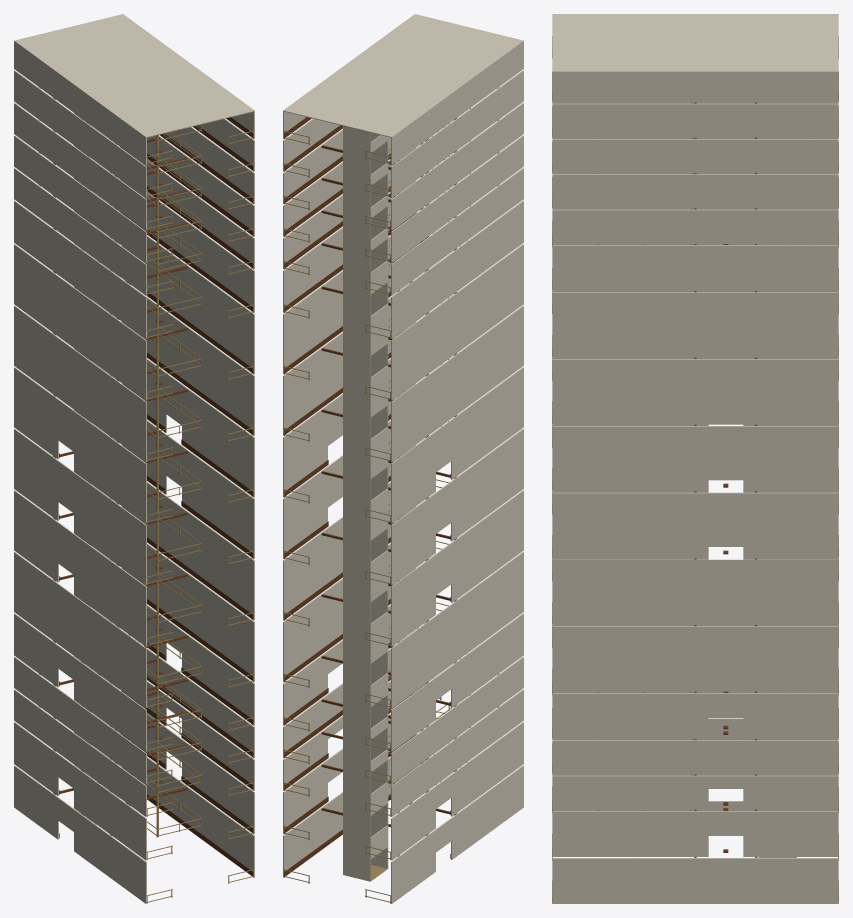
Rendered from AST-CIR-005_aft_towels_d08.glb.
3 renders of one model, left to right at view 1: azimuth 30°, elevation 25°; view 2: azimuth 150°, elevation 25°; view 3: azimuth 270°, elevation 25°, orthographic. The views are drawn at different scales.
Parts seen in each view (by area): view 1: CORE_BATCH_ivory_enamel, CORE_BATCH_champagne_metal, CORE_BATCH_warm_walnut, CORE_OuterWall_01_-1_Solar_Aft, CORE_OuterWall_04_-1_hydration_Aft, CORE_OuterWall_04_1_family_waiting_Aft, CORE_OuterWall_01_1_Inspection_Aft, CORE_OuterWall_02_1_Uniforms_Aft, CORE_OuterWall_04_-1_hydration_Fore, CORE_OuterWall_01_-1_Solar_Fore, CORE_OuterWall_04_1_family_waiting_Fore, CORE_OuterWall_01_1_Inspection_Fore; view 2: CORE_BATCH_ivory_enamel, CORE_BATCH_warm_walnut, CORE_BATCH_champagne_metal, CORE_OuterWall_04_-1_hydration_Aft, CORE_OuterWall_01_-1_Solar_Aft, CORE_OuterWall_01_-1_Solar_Fore, CORE_OuterWall_04_-1_hydration_Fore, CORE_OuterWall_04_1_family_waiting_Fore, CORE_OuterWall_01_1_Inspection_Fore, CORE_OuterWall_02_1_Uniforms_Fore; view 3: CORE_BATCH_ivory_enamel, CORE_OuterWall_01_1_Inspection_Aft, CORE_OuterWall_04_1_family_waiting_Aft, CORE_OuterWall_02_1_Uniforms_Aft, CORE_OuterWall_01_1_Inspection_Fore, CORE_OuterWall_04_1_family_waiting_Fore, CORE_OuterWall_02_1_Uniforms_Fore, CORE_BATCH_champagne_metal, CORE_OuterWall_01_1_Inspection_Header, CORE_OuterWall_04_1_family_waiting_Header.
Part boxes in pixels (<box>): CORE_BATCH_ivory_enamel: <box>14,14,254,903</box>; CORE_BATCH_champagne_metal: <box>38,87,254,903</box>; CORE_BATCH_warm_walnut: <box>53,97,253,875</box>; CORE_OuterWall_01_-1_Solar_Aft: <box>74,766,146,860</box>; CORE_OuterWall_04_-1_hydration_Aft: <box>74,657,146,751</box>; CORE_OuterWall_04_1_family_waiting_Aft: <box>182,631,254,725</box>; CORE_OuterWall_01_1_Inspection_Aft: <box>182,739,254,833</box>; CORE_OuterWall_02_1_Uniforms_Aft: <box>182,707,254,790</box>; CORE_OuterWall_04_-1_hydration_Fore: <box>14,613,58,687</box>; CORE_OuterWall_01_-1_Solar_Fore: <box>14,722,58,795</box>; CORE_OuterWall_04_1_family_waiting_Fore: <box>147,605,166,660</box>; CORE_OuterWall_01_1_Inspection_Fore: <box>147,714,166,769</box>; CORE_BATCH_ivory_enamel: <box>283,14,523,903</box>; CORE_BATCH_warm_walnut: <box>284,117,456,875</box>; CORE_BATCH_champagne_metal: <box>283,87,499,903</box>; CORE_OuterWall_04_-1_hydration_Aft: <box>451,613,523,707</box>; CORE_OuterWall_01_-1_Solar_Aft: <box>451,722,523,816</box>; CORE_OuterWall_01_-1_Solar_Fore: <box>391,786,435,860</box>; CORE_OuterWall_04_-1_hydration_Fore: <box>391,678,435,751</box>; CORE_OuterWall_04_1_family_waiting_Fore: <box>283,651,327,725</box>; CORE_OuterWall_01_1_Inspection_Fore: <box>283,760,327,833</box>; CORE_OuterWall_02_1_Uniforms_Fore: <box>283,727,327,790</box>; CORE_BATCH_ivory_enamel: <box>552,14,838,903</box>; CORE_OuterWall_01_1_Inspection_Aft: <box>552,811,708,856</box>; CORE_OuterWall_04_1_family_waiting_Aft: <box>552,693,708,738</box>; CORE_OuterWall_02_1_Uniforms_Aft: <box>552,775,708,809</box>; CORE_OuterWall_01_1_Inspection_Fore: <box>743,811,838,856</box>; CORE_OuterWall_04_1_family_waiting_Fore: <box>743,693,838,738</box>; CORE_OuterWall_02_1_Uniforms_Fore: <box>743,775,838,809</box>; CORE_BATCH_champagne_metal: <box>552,36,838,902</box>; CORE_OuterWall_01_1_Inspection_Header: <box>708,811,743,835</box>; CORE_OuterWall_04_1_family_waiting_Header: <box>708,693,743,717</box>.
Size of the model in its own units: 15.76 by 106 by 33.08.
Materials: 4 (3 with a texture image).
